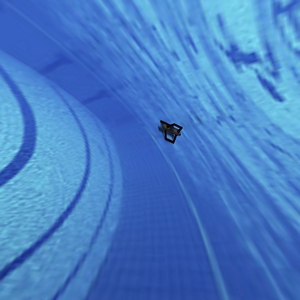submarine: (136, 93, 192, 155)
